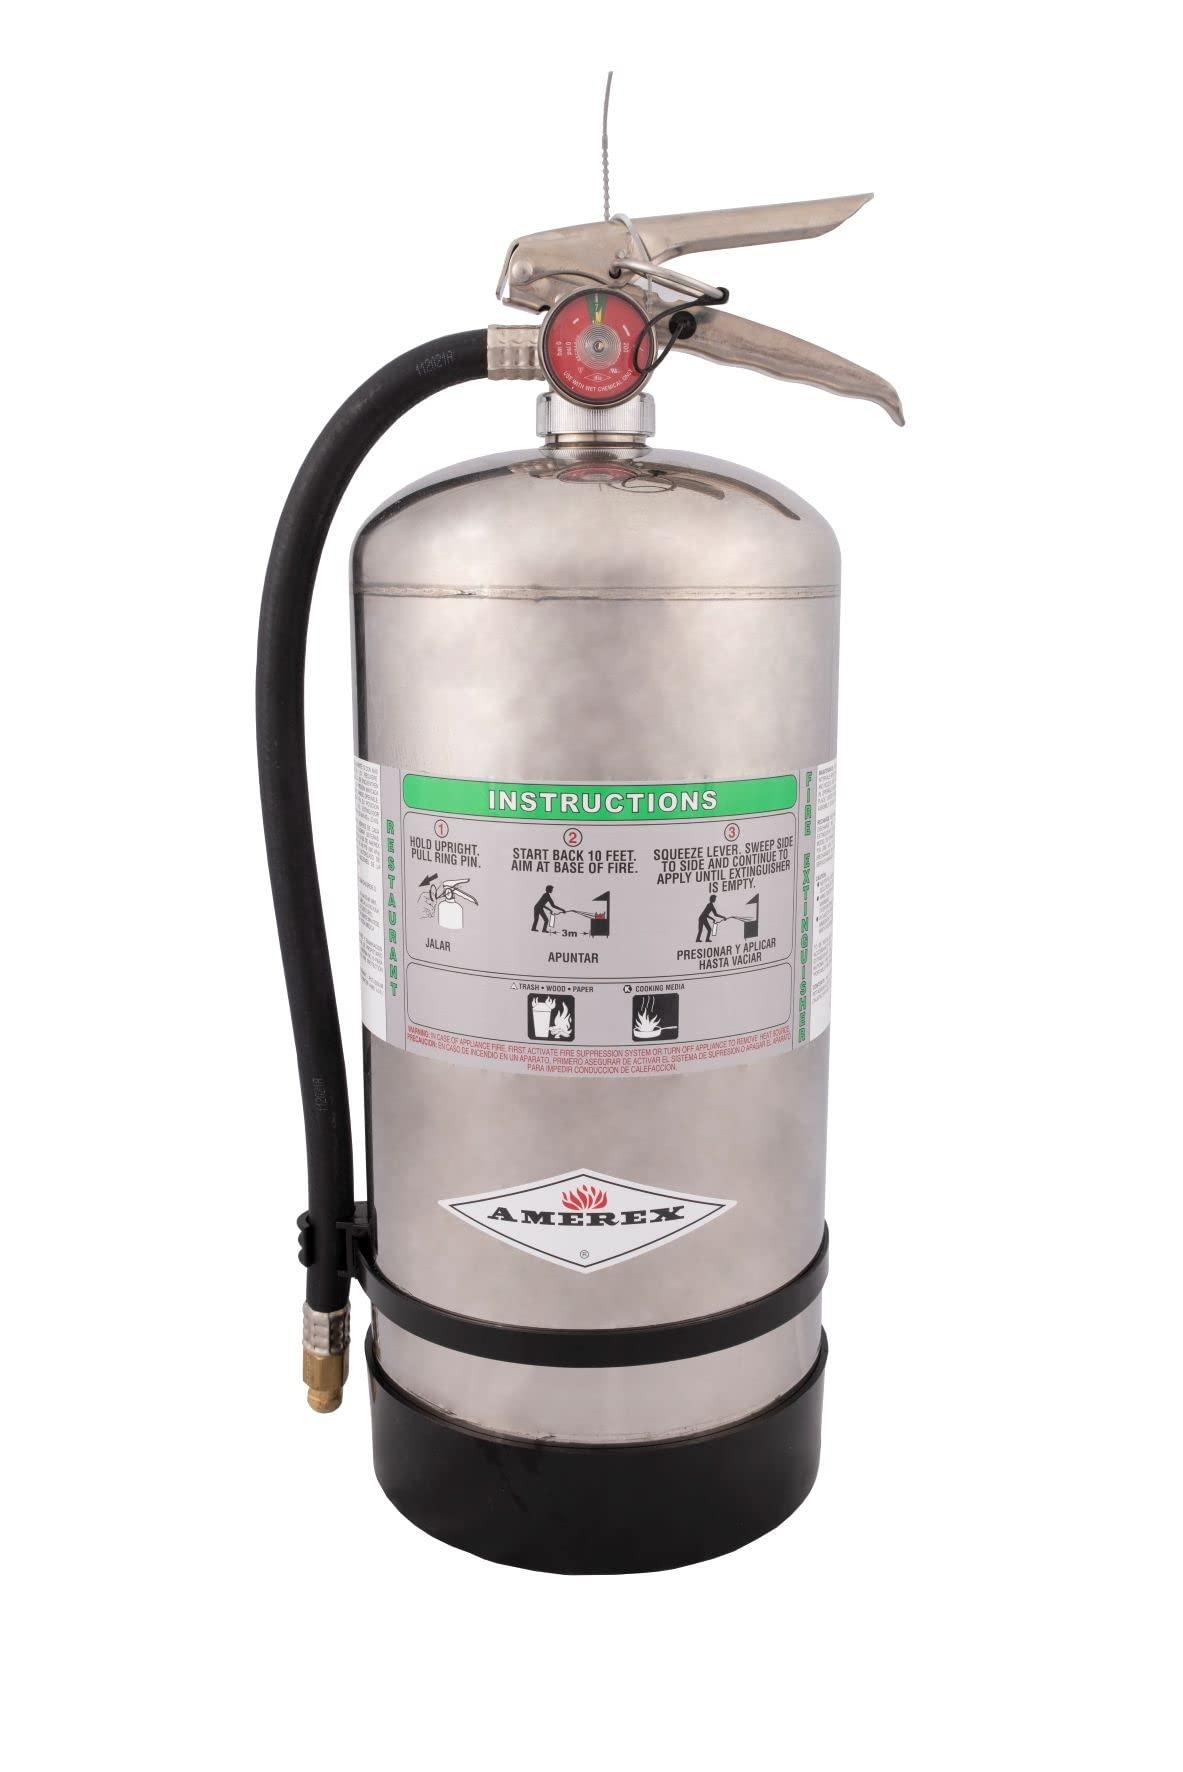Fire Extinguisher: (195, 95, 1100, 1606)
